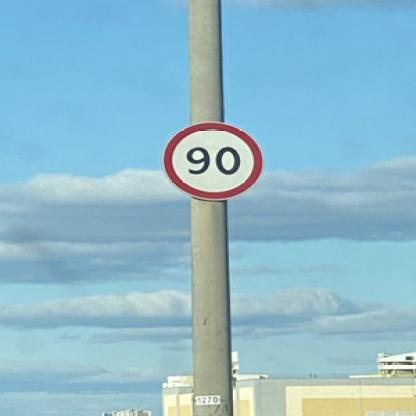Speed Limit 90: (167, 122, 264, 199)
